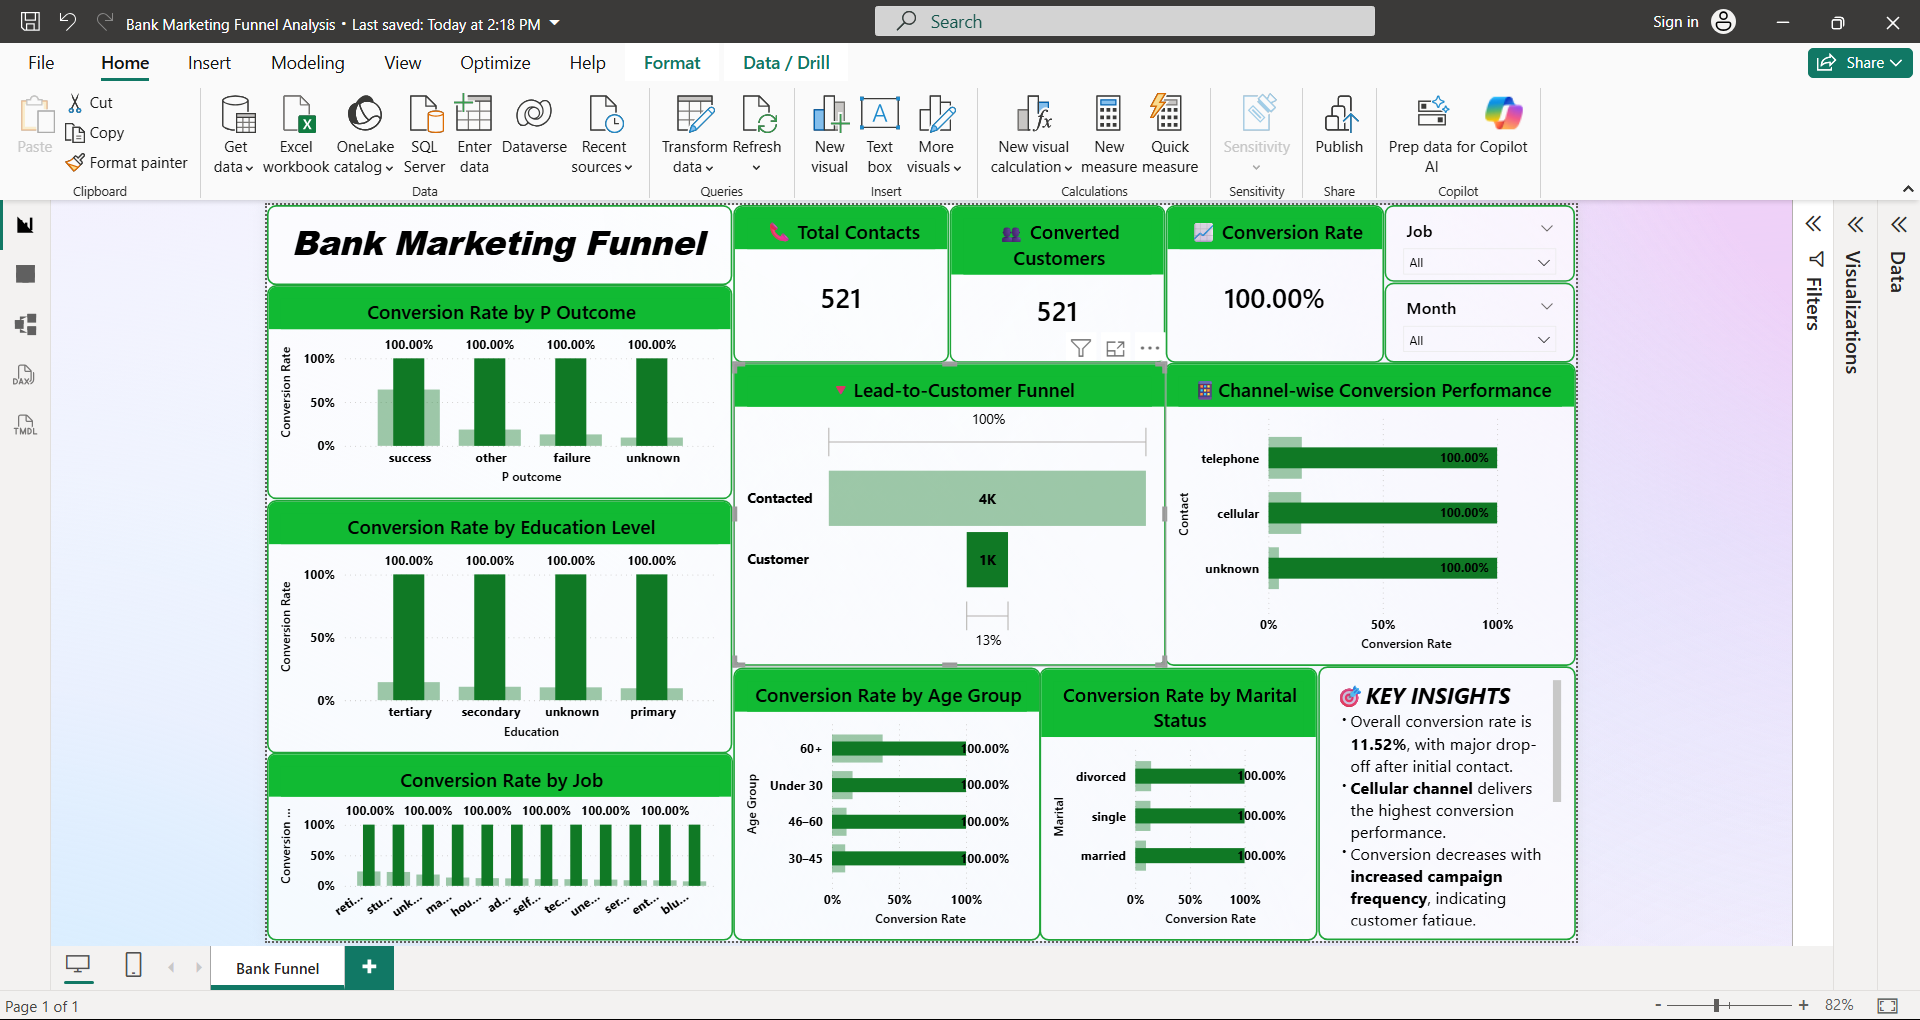

Layout of this report page (visuals, bound fields, positions):
{"tool":"powerbi","page":{"name":"Page 1","canvas":[1280,720],"ordinal":0},"visuals":[{"type":"card","title":"Total Contacts","fields":{"Values":["Cleaned_Bank_data.Total Contacts"]},"box":[455.6,0,211.3,153.7],"z":0},{"type":"card","title":"Converted Customers","fields":{"Values":["Cleaned_Bank_data.Total Customers"]},"box":[666.9,0,219.6,153.7],"z":1000},{"type":"card","title":"Conversion Rate","fields":{"Values":["Cleaned_Bank_data.Conversion Rate"]},"box":[886.6,0,210.3,154.1],"z":2000},{"type":"funnel","title":"Lead-to-Customer Funnel","fields":{"Y":["Cleaned_Bank_data.Funnel Count"],"Category":["Cleaned_Bank_data.Funnel Stage"]},"box":[455.6,153.7,413,299.1],"z":3000},{"type":"clusteredBarChart","title":"Channel-wise Conversion Performance","fields":{"Category":["Cleaned_Bank_data.Contact"],"Y":["Cleaned_Bank_data.Conversion Rate"]},"box":[868.6,153.7,411.7,299.1],"z":4000},{"type":"slicer","fields":{"Values":["Cleaned_Bank_data.Month"]},"box":[1093.7,75.5,186.6,78.2],"z":5000},{"type":"slicer","fields":{"Values":["Cleaned_Bank_data.Job"]},"box":[1093.7,0,186.6,75.5],"z":6000},{"type":"clusteredBarChart","title":"Conversion Rate by Marital Status","fields":{"Category":["Cleaned_Bank_data.Marital"],"Y":["Cleaned_Bank_data.Conversion Rate"]},"box":[756.1,452.8,271.7,267.6],"z":7000},{"type":"clusteredColumnChart","title":"Conversion Rate by Education Level","fields":{"Category":["Cleaned_Bank_data.Education"],"Y":["Cleaned_Bank_data.Conversion Rate"]},"box":[0,288.2,455.6,248.4],"z":8000},{"type":"clusteredBarChart","fields":{"Category":["Cleaned_Bank_data.Age Group"],"Y":["Cleaned_Bank_data.Conversion Rate"]},"box":[455.6,452.8,300.5,267.6],"z":9000},{"type":"clusteredColumnChart","title":"Conversion Rate by P Outcome","fields":{"Y":["Cleaned_Bank_data.Conversion Rate"],"Category":["Cleaned_Bank_data.P out Come"]},"box":[0,78.2,455.6,209.9],"z":10000},{"type":"textbox","title":"Bank Marketing Funnel","box":[0,0,455.6,78.2],"z":11000},{"type":"clusteredColumnChart","fields":{"Category":["Cleaned_Bank_data.Job"],"Y":["Cleaned_Bank_data.Conversion Rate"]},"box":[0,536,456,184],"z":12000},{"type":"textbox","box":[1028.4,451.2,251.9,267.8],"z":13000}]}

Visuals, with their boxes on the page's 1280x720 design canvas (x1, y1, x2, y2). These are canvas units, not pixel positions in the 1920x1020 screenshot, which may show the page scaled, cropped or inside an application window:
"Total Contacts" card: 456/0/667/154
"Converted Customers" card: 667/0/886/154
"Conversion Rate" card: 887/0/1097/154
"Lead-to-Customer Funnel" funnel: 456/154/869/453
"Channel-wise Conversion Performance" clusteredBarChart: 869/154/1280/453
slicer - Cleaned_Bank_data.Month: 1094/76/1280/154
slicer - Cleaned_Bank_data.Job: 1094/0/1280/76
"Conversion Rate by Marital Status" clusteredBarChart: 756/453/1028/720
"Conversion Rate by Education Level" clusteredColumnChart: 0/288/456/537
clusteredBarChart - Cleaned_Bank_data.Age Group x Cleaned_Bank_data.Conversion Rate: 456/453/756/720
"Conversion Rate by P Outcome" clusteredColumnChart: 0/78/456/288
"Bank Marketing Funnel" textbox: 0/0/456/78
clusteredColumnChart - Cleaned_Bank_data.Job x Cleaned_Bank_data.Conversion Rate: 0/536/456/720
textbox: 1028/451/1280/719
